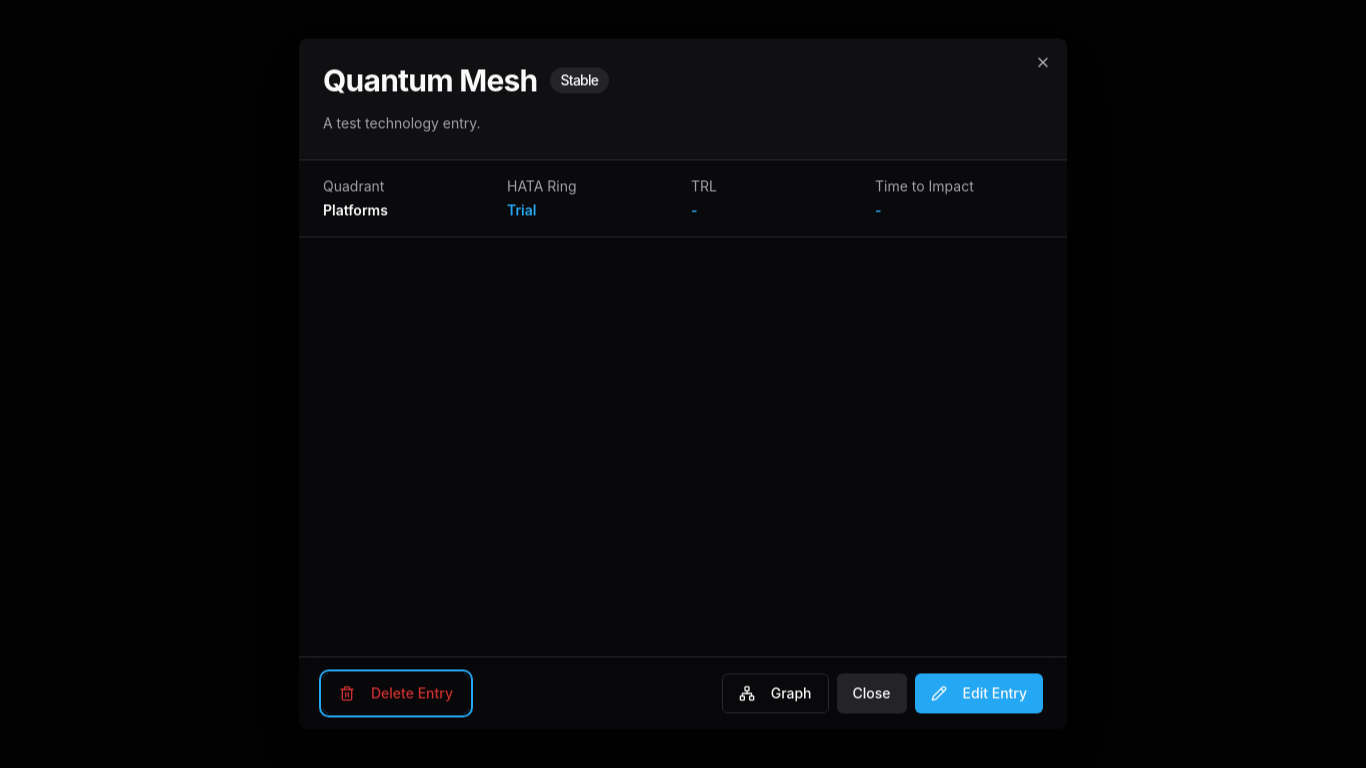
it: ResearchDialog delete confirmation (UX-044) › opens an accessible AlertDialog instead of window.confirm and does not delete yet
Click the button "Delete Entry": [396, 694] box [323,674,469,714]
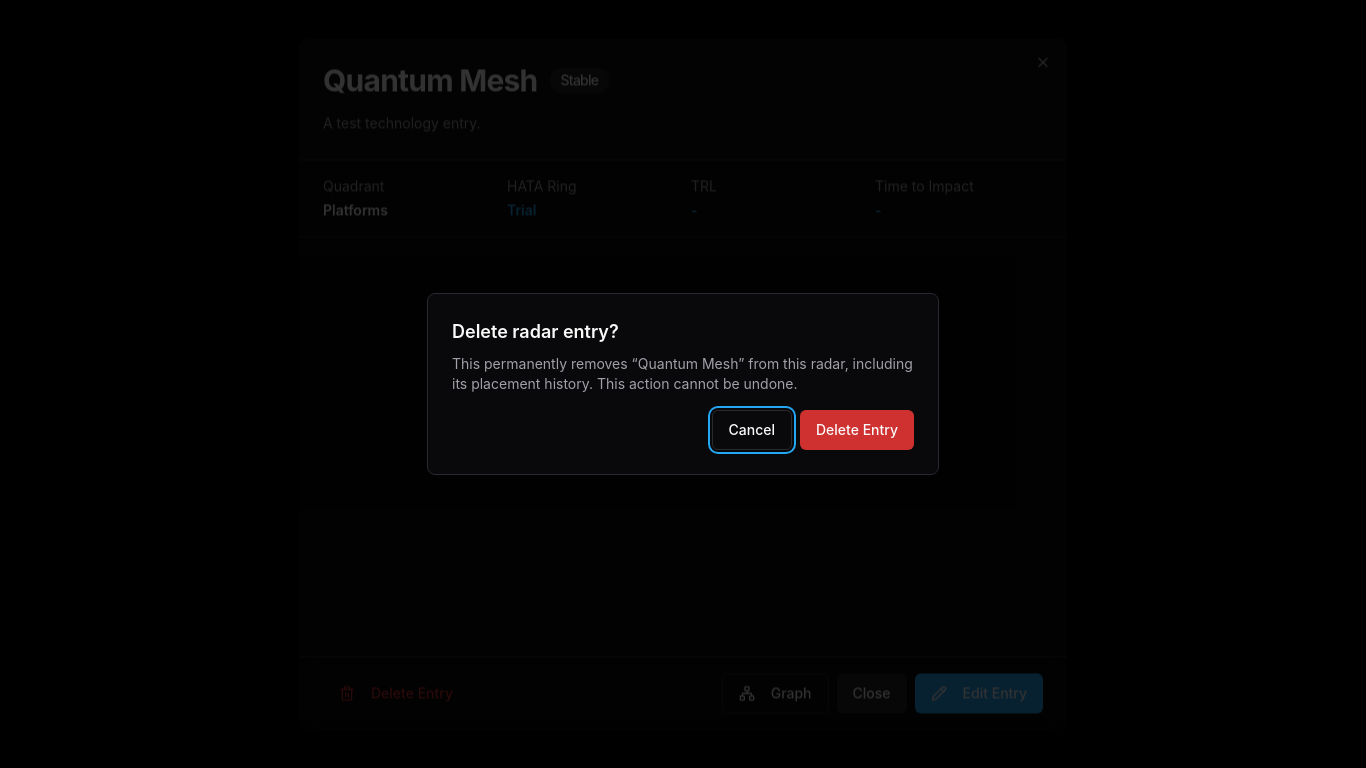
expect the dialog that starts with "Delete radar entry?" is shown: met, box [427,293,939,475]
